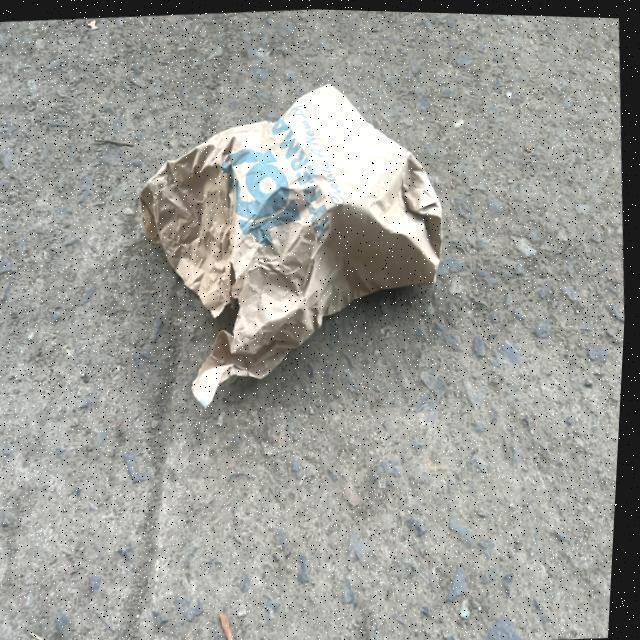Paper_Bag: (127, 72, 464, 415)
